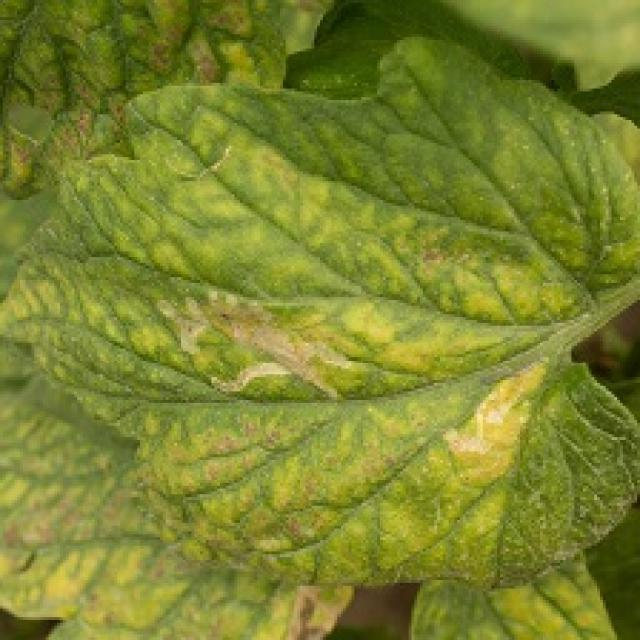Tuta absoluta: (138, 266, 357, 438), (441, 362, 552, 469)
